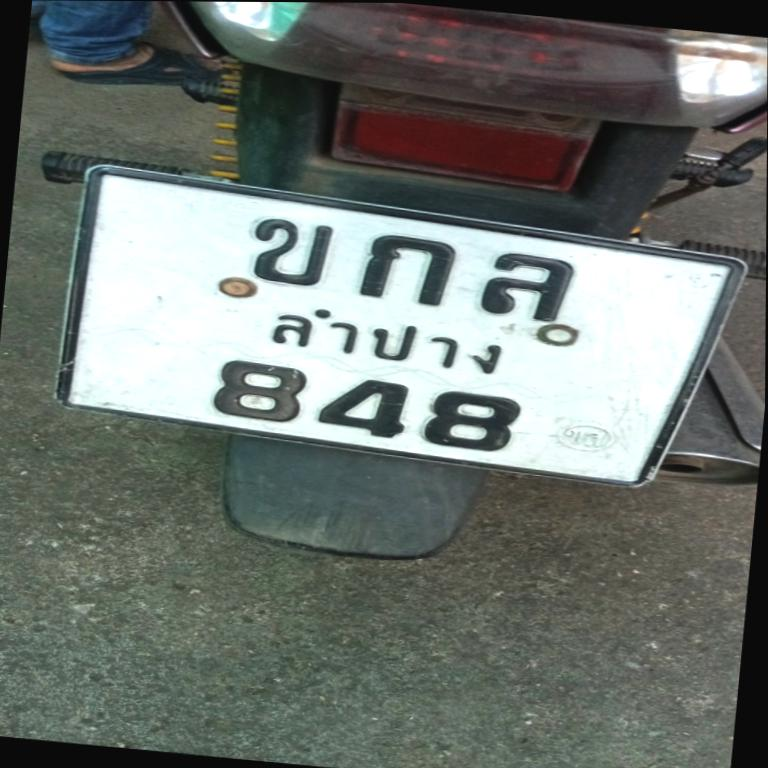license plate: (45, 156, 755, 503)
